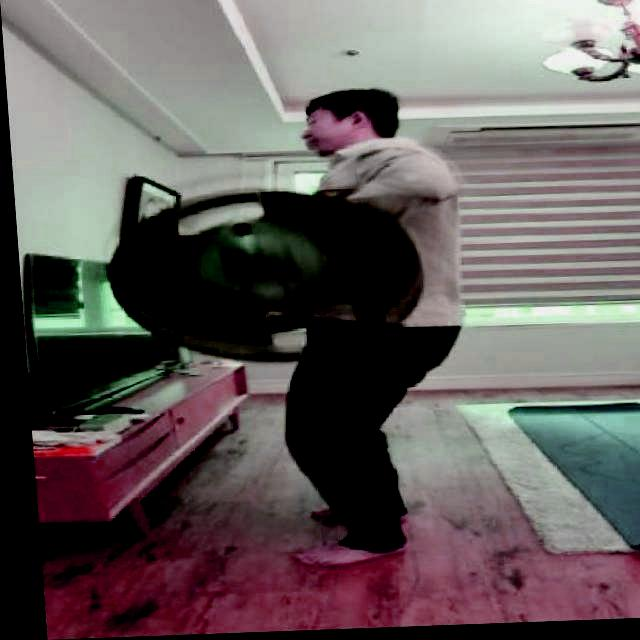barbell: (88, 182, 439, 365)
